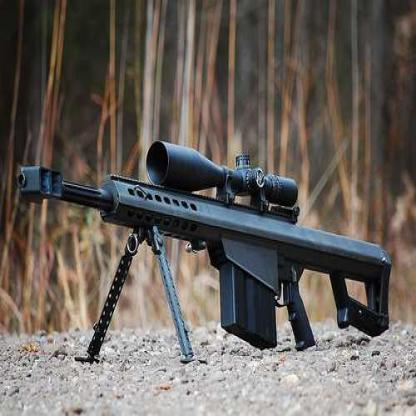Heavy Gun: (20, 142, 392, 366)
